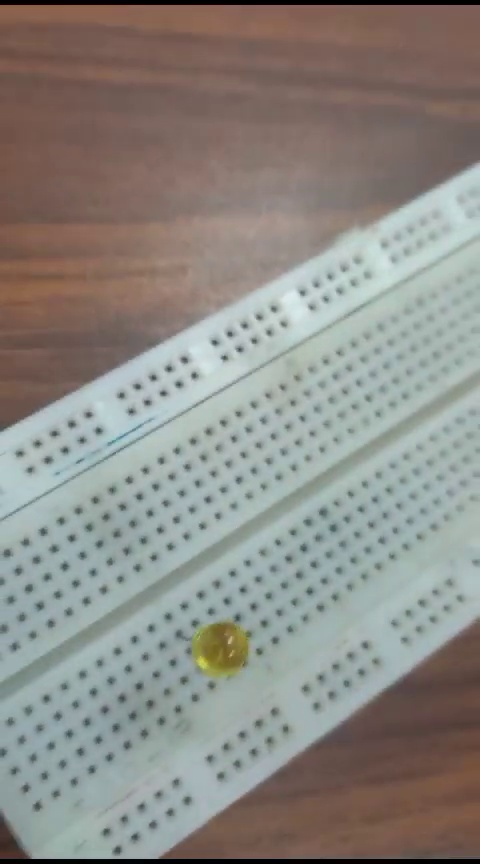LED: (166, 607, 262, 684)
